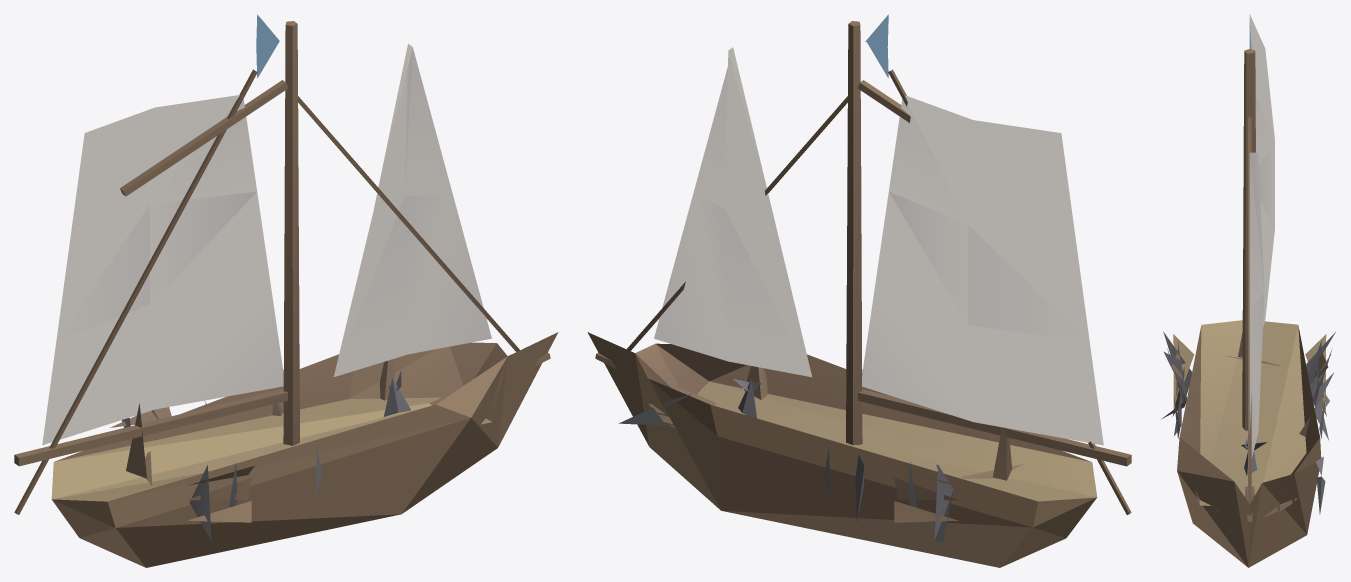
Rendered from sloop.glb.
The picture shows the model from 3 angles, left to right: view 1: azimuth 30°, elevation 25°; view 2: azimuth 150°, elevation 25°; view 3: azimuth 270°, elevation 25°; orthographic projection. The views are drawn at different scales.
Parts seen in each view (by area): view 1: sloop; view 2: sloop; view 3: sloop.
Part boxes in pixels (left/top/right/bottom): sloop: left=14, top=14, right=558, bottom=567; sloop: left=587, top=14, right=1131, bottom=567; sloop: left=1162, top=14, right=1335, bottom=567.
Size of the model in its own units: 1.92 by 1.78 by 0.6002.
